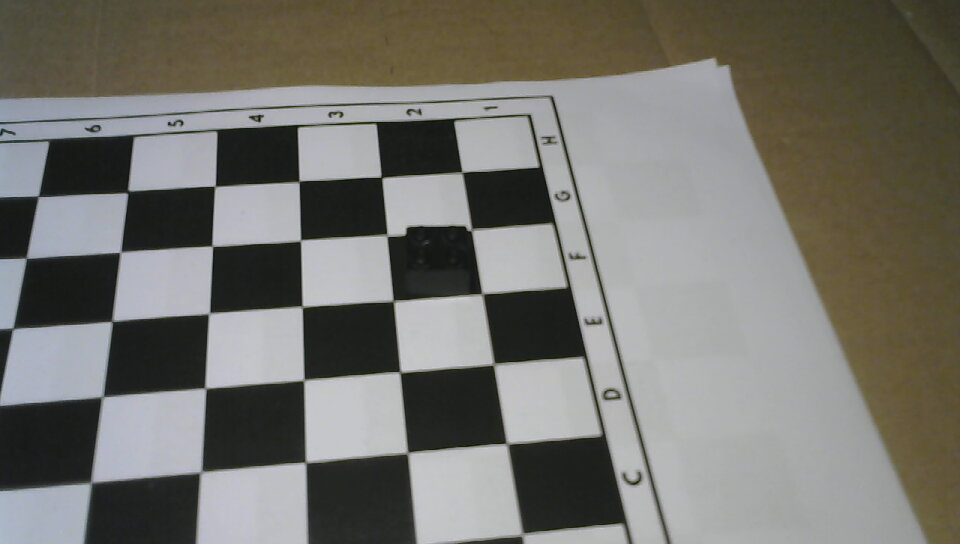bp: (398, 219, 477, 301)
